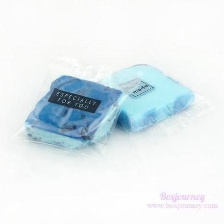snack: (0, 53, 146, 166), (83, 57, 211, 141)
